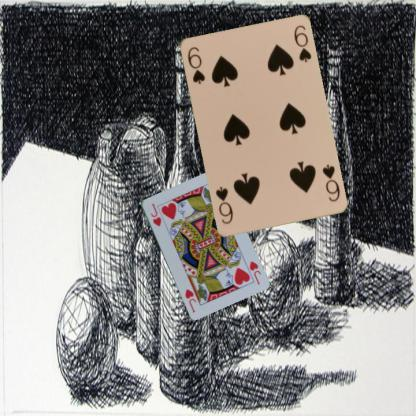6s: (319, 161, 341, 203), (184, 44, 206, 85)
Jh: (242, 258, 262, 286), (148, 200, 162, 228)
